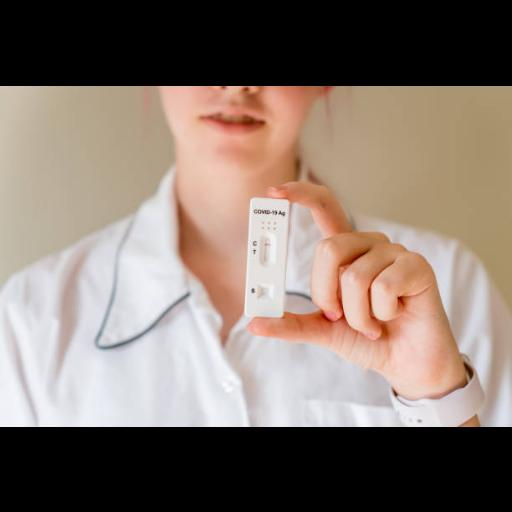Neg: (245, 196, 292, 317)
